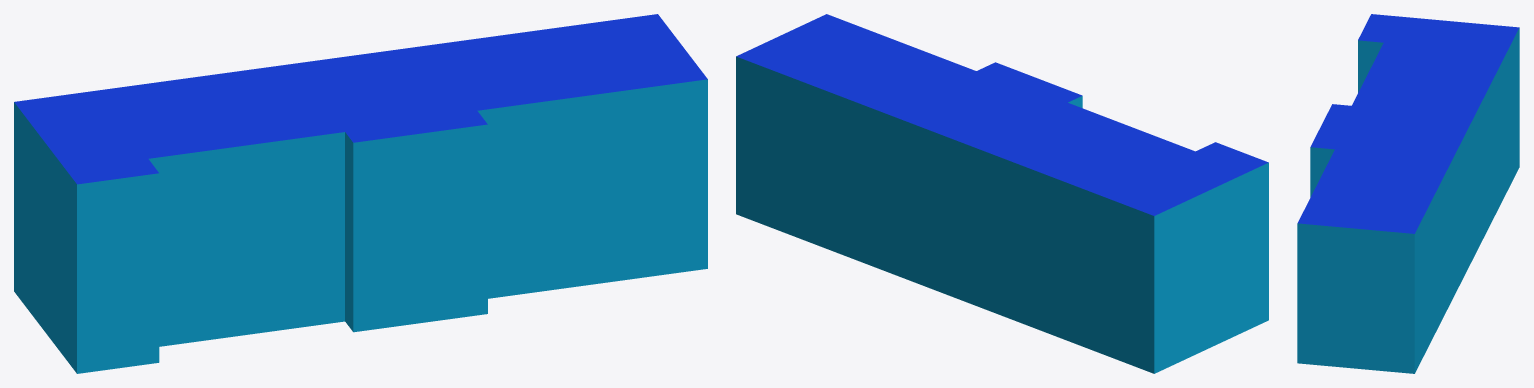
Rendered from map_21.osm_buildings.006.gltf.
The picture shows the model from 3 angles, left to right: view 1: azimuth 30°, elevation 25°; view 2: azimuth 150°, elevation 25°; view 3: azimuth 270°, elevation 25°; orthographic projection. The views are drawn at different scales.
Parts seen in each view (by area): view 1: map_21.osm_buildings.006; view 2: map_21.osm_buildings.006; view 3: map_21.osm_buildings.006.
Boxes of the visible parts, x1=… form: map_21.osm_buildings.006: x1=14, y1=14, x2=707, y2=373; map_21.osm_buildings.006: x1=736, y1=14, x2=1268, y2=373; map_21.osm_buildings.006: x1=1297, y1=14, x2=1519, y2=373.
Size of the model in its own units: 43.27 by 12.84 by 18.46.
